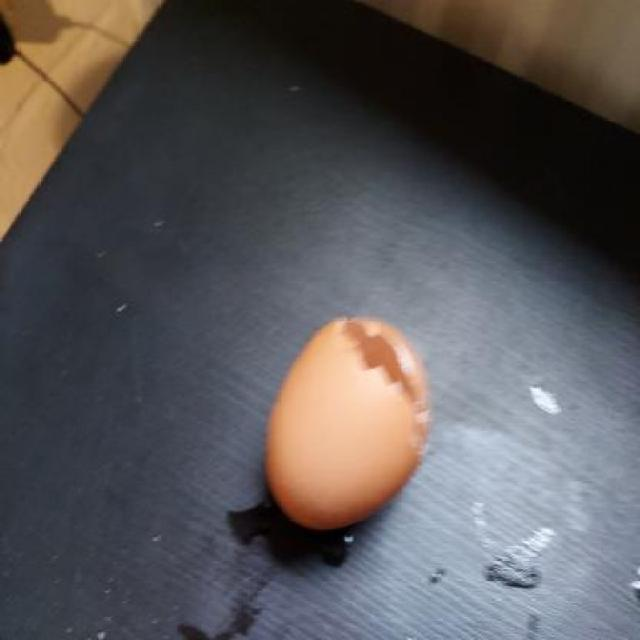biodegradable: (265, 315, 430, 543)
